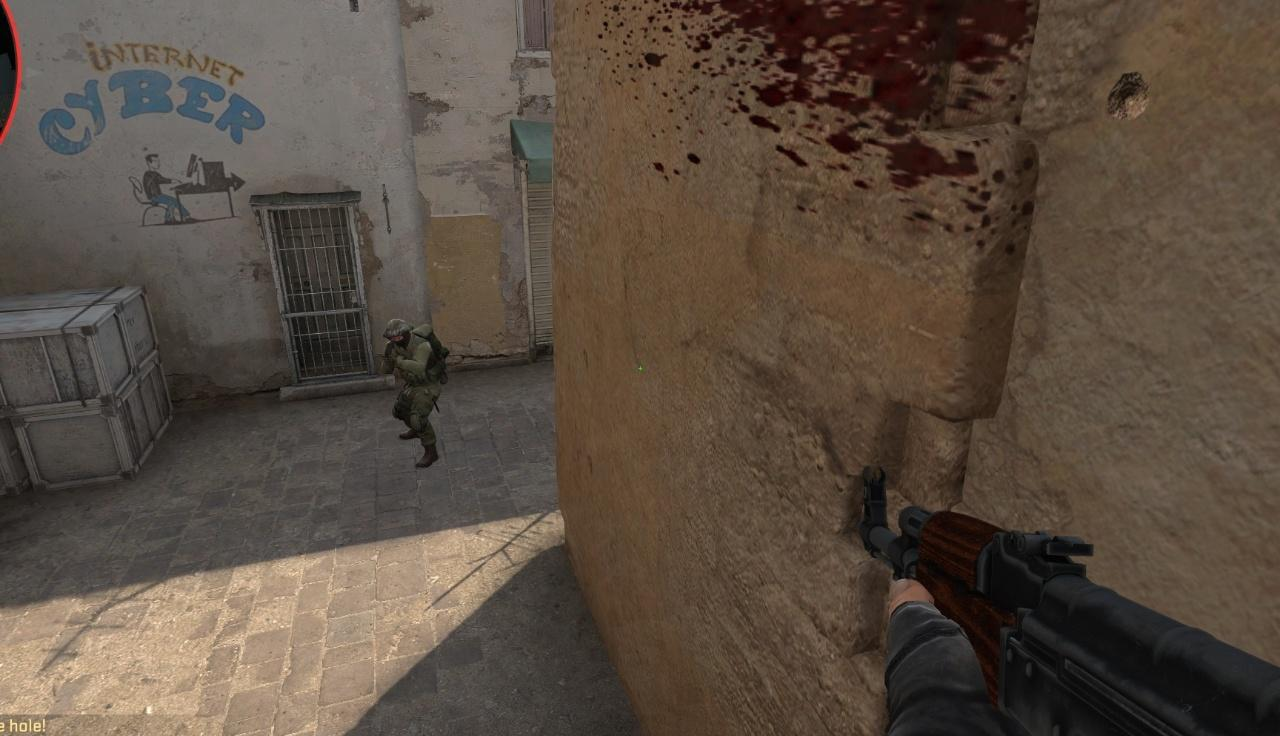ct: (383, 318, 445, 468)
cthead: (388, 320, 410, 348)
rifle: (858, 463, 1280, 736)
